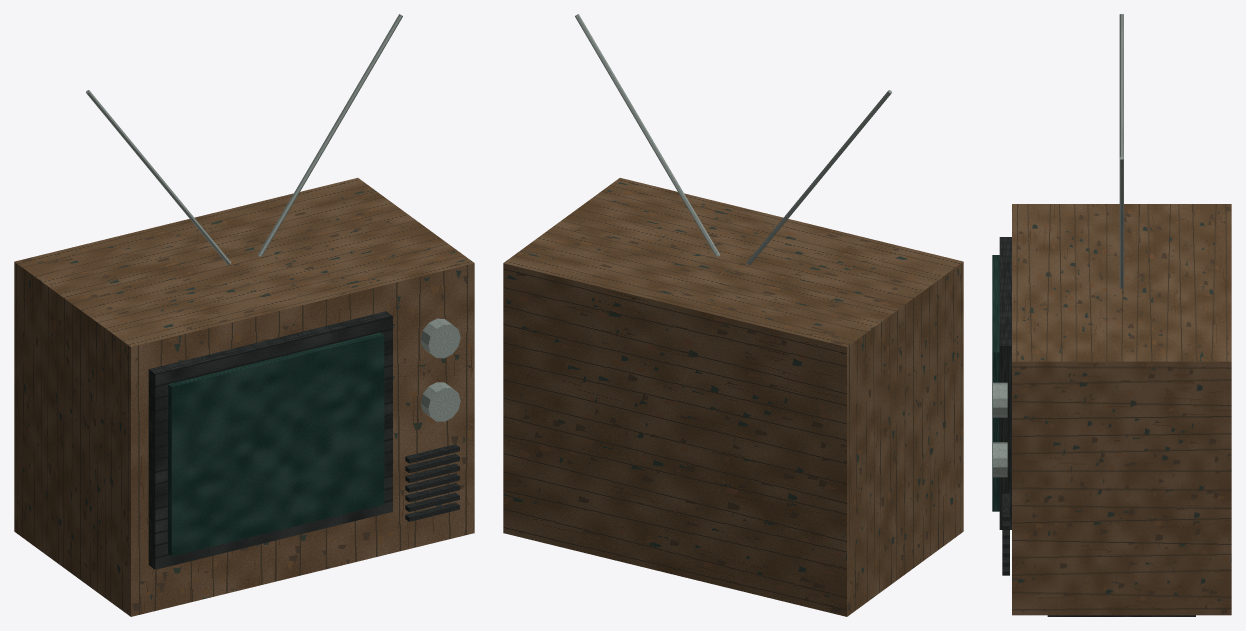
File: CIS_OldTelevision.glb
The picture shows the model from 3 angles, left to right: view 1: azimuth 30°, elevation 25°; view 2: azimuth 150°, elevation 25°; view 3: azimuth 270°, elevation 25°; orthographic projection. The views are drawn at different scales.
Parts seen in each view (by area): view 1: CIS_OldTelevision; view 2: CIS_OldTelevision; view 3: CIS_OldTelevision.
Boxes of the visible parts, x1,y1,x2,y2 form: CIS_OldTelevision: [14, 14, 474, 616]; CIS_OldTelevision: [503, 14, 963, 616]; CIS_OldTelevision: [992, 14, 1231, 616].
Bounding box in the file's own units: 0.68 × 0.942 × 0.436.
4 materials, 4 textured.
